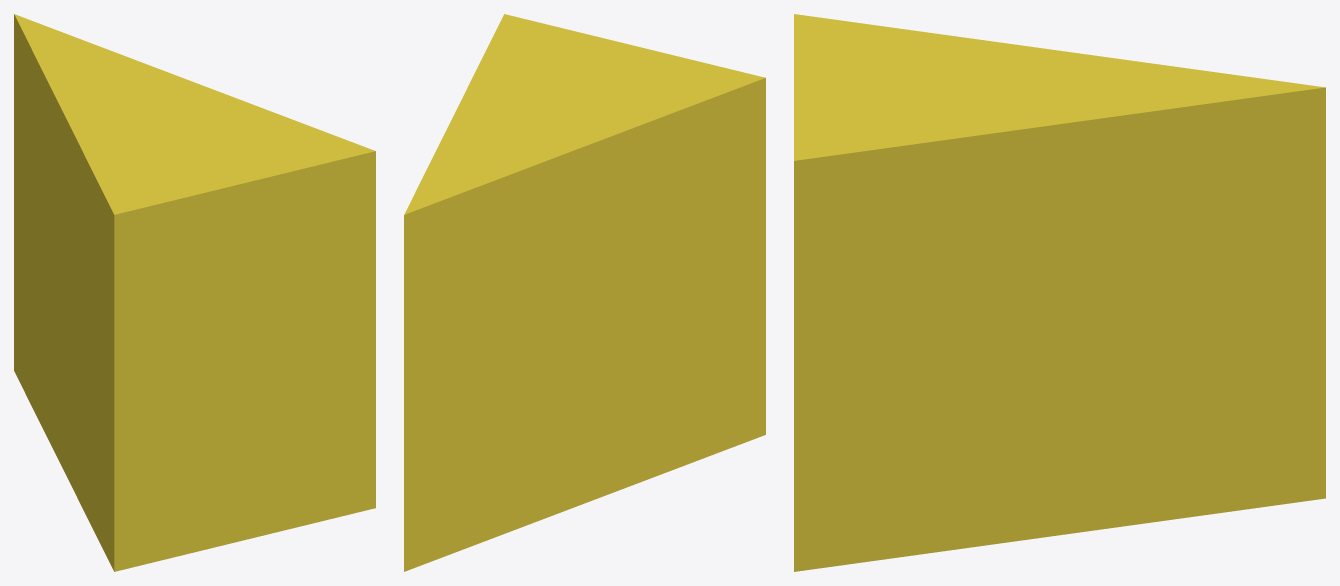
File: Cheese.fbx
The picture shows the model from 3 angles, left to right: view 1: azimuth 30°, elevation 25°; view 2: azimuth 150°, elevation 25°; view 3: azimuth 270°, elevation 25°; orthographic projection. The views are drawn at different scales.
Parts seen in each view (by area): view 1: Cheese; view 2: Cheese; view 3: Cheese.
Part boxes in pixels (x1,y1,x2,y2): Cheese: [14, 14, 375, 571]; Cheese: [404, 14, 765, 571]; Cheese: [794, 14, 1325, 571].
Bounding box in the file's own units: 68.03 × 88.74 × 104.
